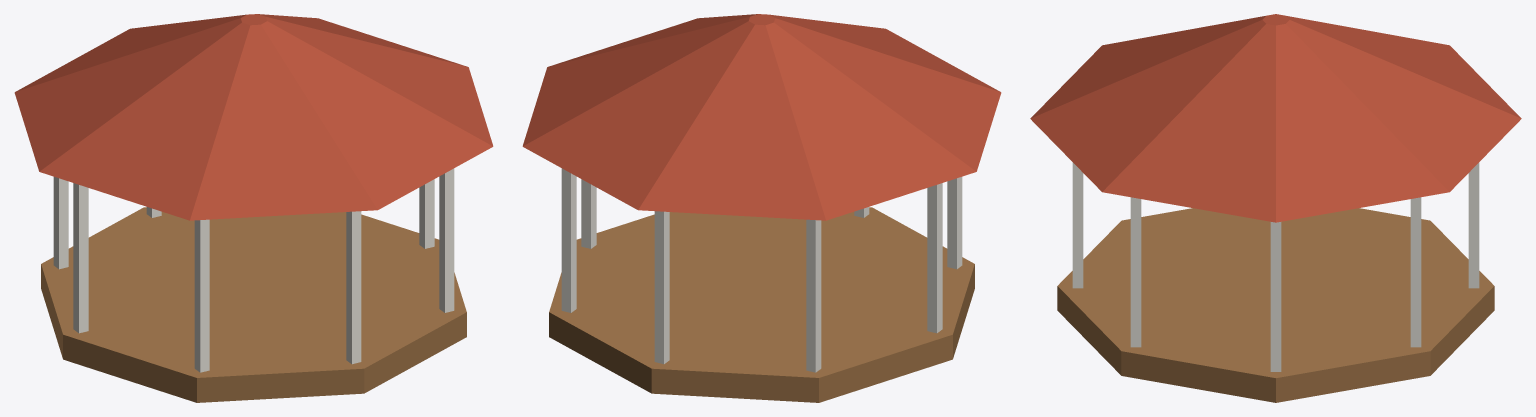
Rendered from gazebo.glb.
The picture shows the model from 3 angles, left to right: view 1: azimuth 30°, elevation 25°; view 2: azimuth 150°, elevation 25°; view 3: azimuth 270°, elevation 25°; orthographic projection.
Visible parts, largest first — view 1: gazebo; view 2: gazebo; view 3: gazebo.
Part boxes in pixels (x1,y1,x2,y2): gazebo: (14, 14, 493, 402); gazebo: (522, 14, 1001, 402); gazebo: (1030, 14, 1521, 402).
Bounding box in the file's own units: 7.2 × 4.7 × 7.2.
